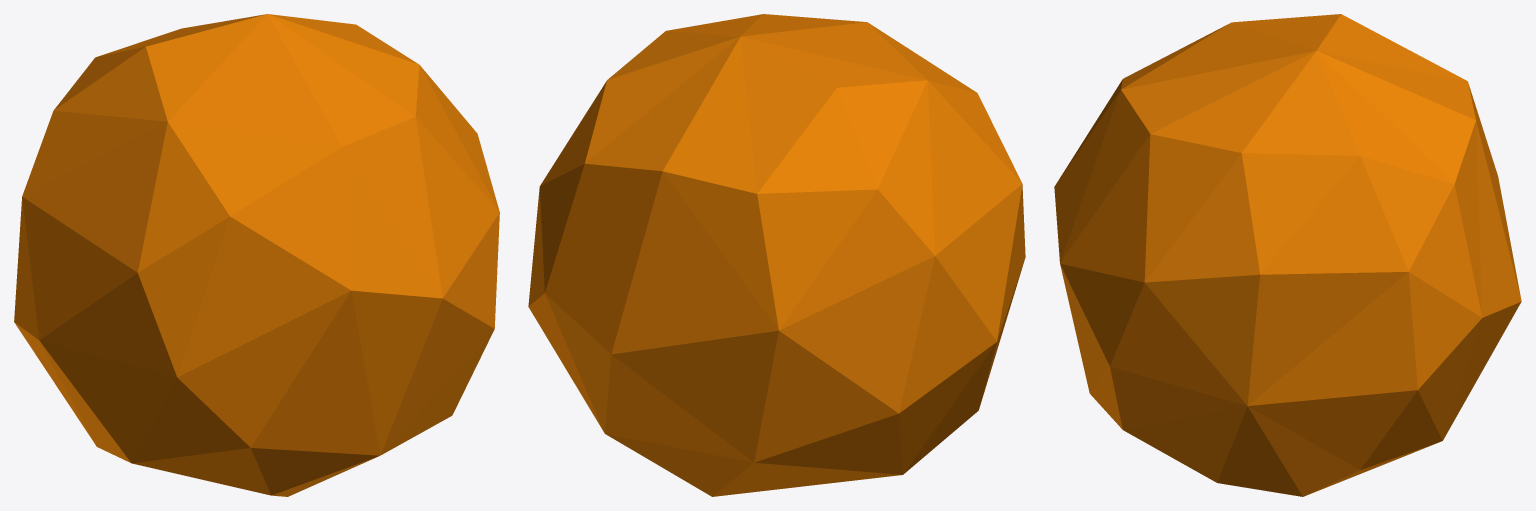
The model's file is sun.gltf.
3 views of the same model, side by side, from view 1: azimuth 30°, elevation 25°; view 2: azimuth 150°, elevation 25°; view 3: azimuth 270°, elevation 25° (orthographic). The views are drawn at different scales.
Visible parts, largest first — view 1: Sun; view 2: Sun; view 3: Sun.
Part boxes in pixels (x1,y1,x2,y2): Sun: (14,14,499,496); Sun: (528,14,1025,496); Sun: (1054,14,1521,496).
Bounding box in the file's own units: 1.88 × 1.87 × 1.85.
